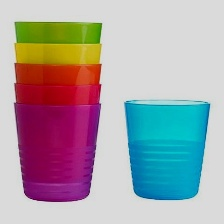glass: (7, 12, 108, 205), (121, 94, 213, 202)
